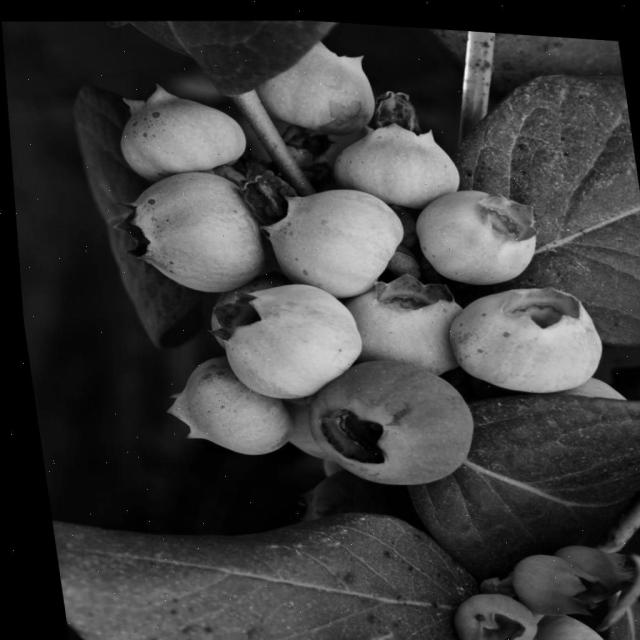RipeBlueBerry: (291, 344, 478, 494)
UnripeBlueBerry: (196, 269, 367, 407), (434, 267, 606, 396), (110, 160, 266, 299), (252, 173, 413, 298), (153, 342, 293, 462), (404, 172, 546, 284), (320, 100, 464, 210), (337, 262, 468, 379), (106, 75, 250, 179), (252, 30, 382, 133)
